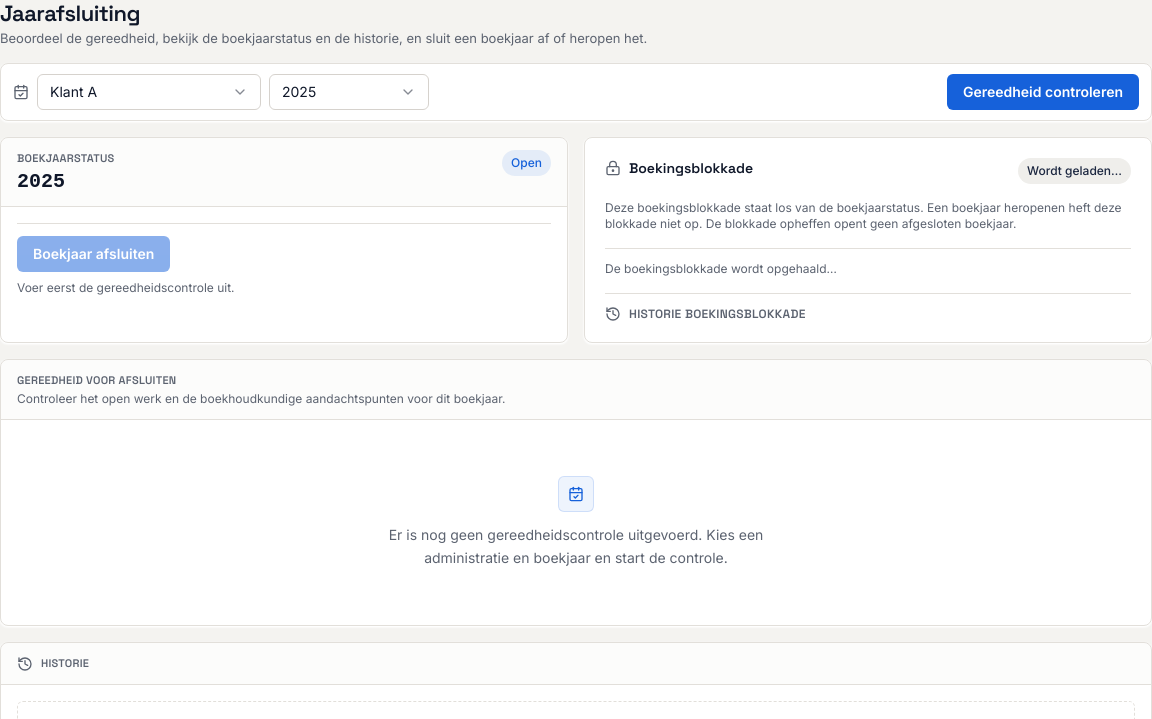
Test: Wanneer verschijnt de afsluitknop › 5. een schone controle levert wél een afsluitknop op
The image size is (1152, 719).
Click the button with test id "jaar-uitvoeren" at [1043, 92], box [947,74,1139,110]
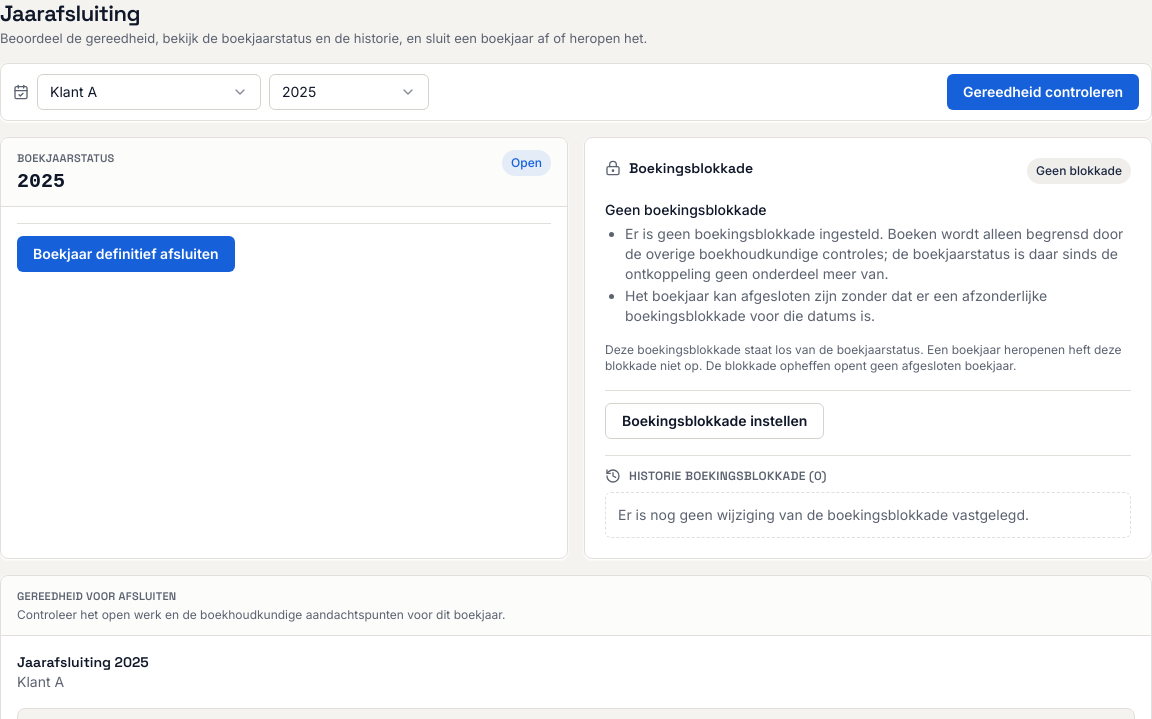
Expected: the button with test id "jaar-afsluiten" is shown, [17,236,235,272]
